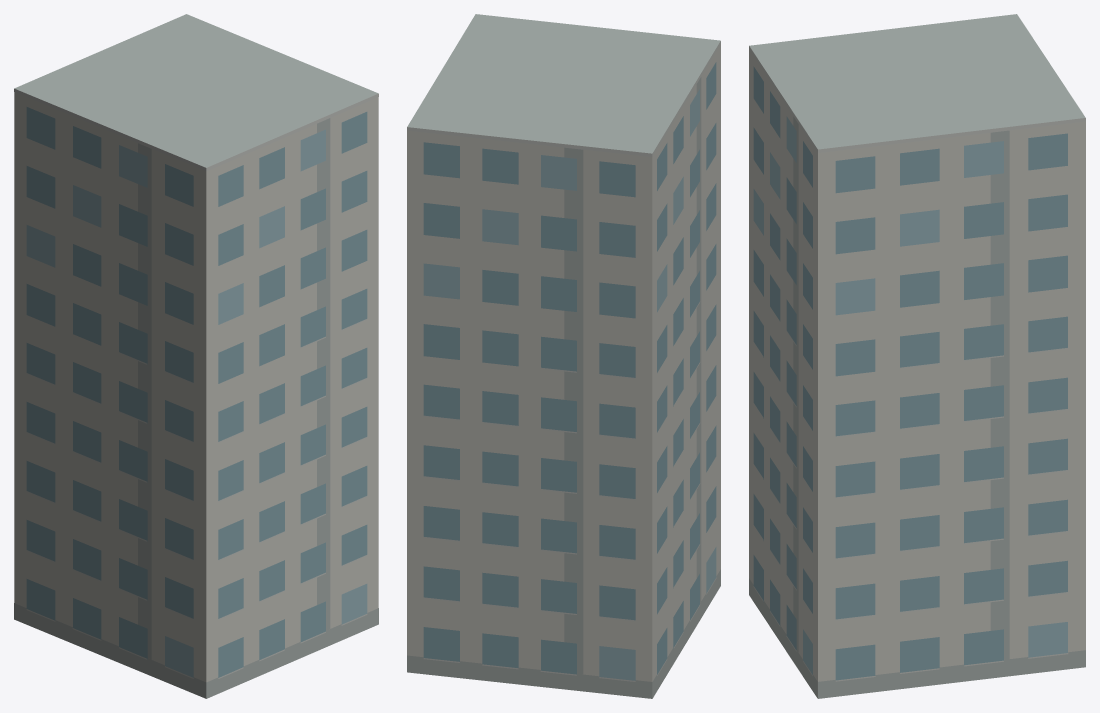
The model's file is residential-eb965257-399d-497f-b7a0-6015e0e535cf.glb.
3 views of the same model, side by side, from view 1: azimuth 30°, elevation 25°; view 2: azimuth 150°, elevation 25°; view 3: azimuth 270°, elevation 25° (orthographic). The views are drawn at different scales.
Parts seen in each view (by area): view 1: residential-eb965257-399d-497f-b7a0-6015e0e535cf.tmp; view 2: residential-eb965257-399d-497f-b7a0-6015e0e535cf.tmp; view 3: residential-eb965257-399d-497f-b7a0-6015e0e535cf.tmp.
Part boxes in pixels (<box>): residential-eb965257-399d-497f-b7a0-6015e0e535cf.tmp: <box>14,14,378,698</box>; residential-eb965257-399d-497f-b7a0-6015e0e535cf.tmp: <box>407,14,720,698</box>; residential-eb965257-399d-497f-b7a0-6015e0e535cf.tmp: <box>749,14,1085,698</box>.
Size of the model in its own units: 19.58 by 37 by 20.56.
